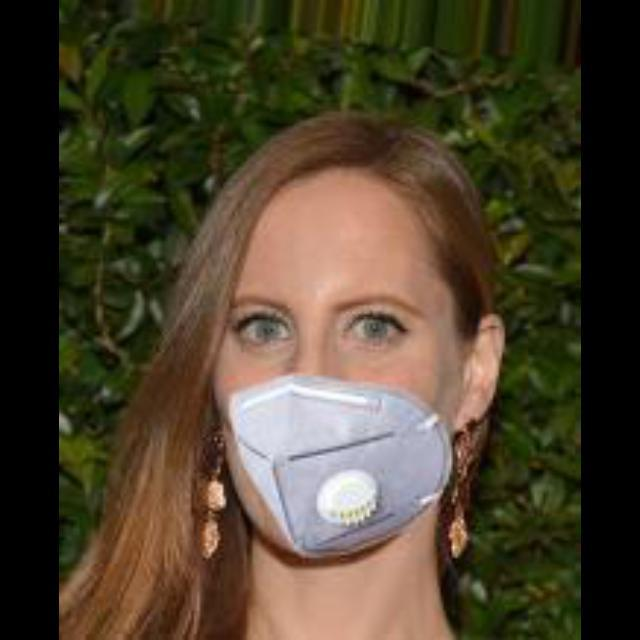suspicion: (217, 144, 528, 556)
